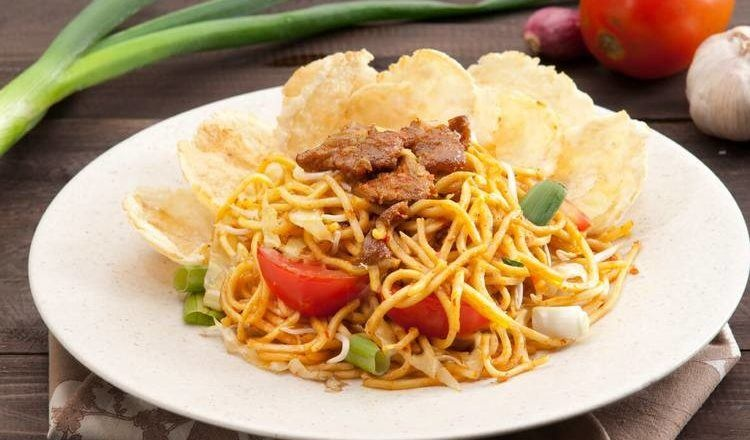mie_aceh: (208, 125, 634, 379)
